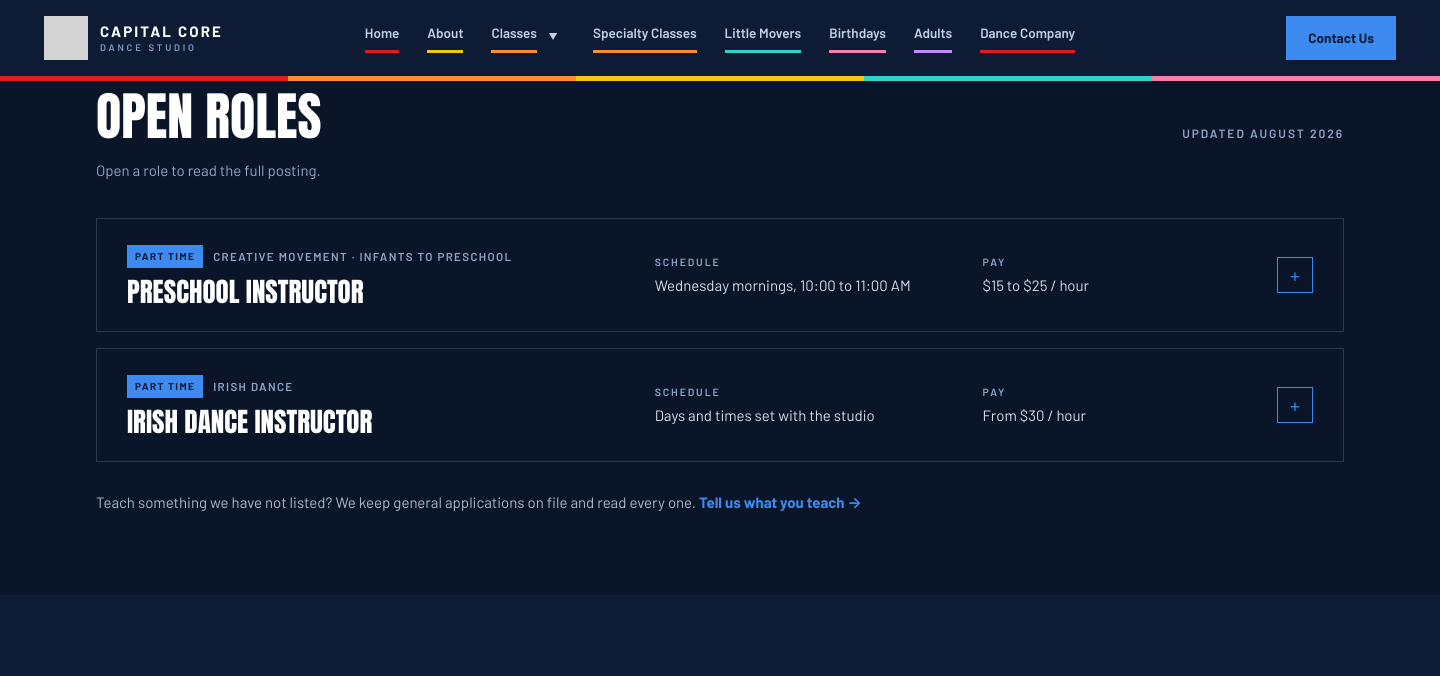
Test: the Irish dance posting states its starting rate and that the schedule is open
(page scrolled)
Click the button "Irish Dance Instructor" at [720, 405], box [97, 349, 1343, 461]
(page scrolled)
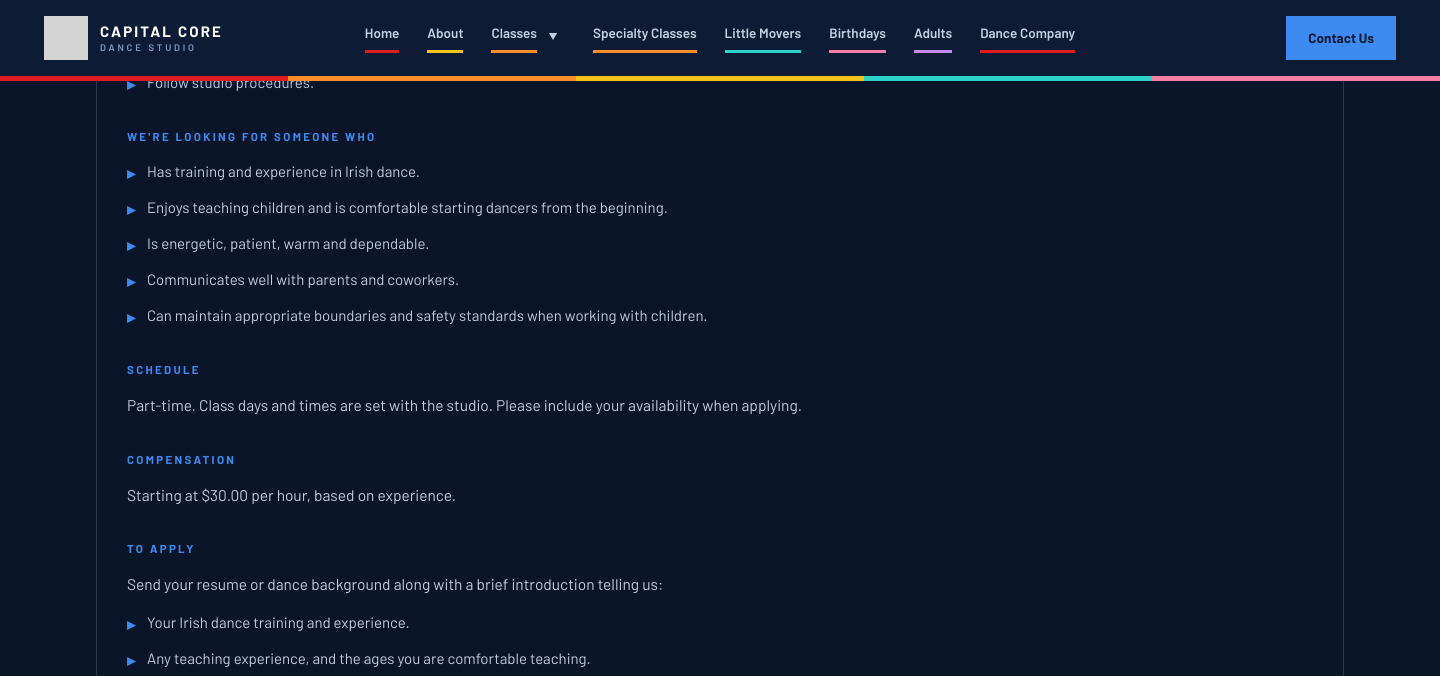
Result: the text "Starting at $30.00 per hour, based on experience." is shown at [127, 485, 456, 504]
Result: the text "Class days and times are set with the studio" is shown at [127, 395, 802, 414]
